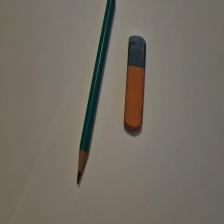eraser: (125, 36, 148, 132)
pencil: (78, 1, 117, 185)
